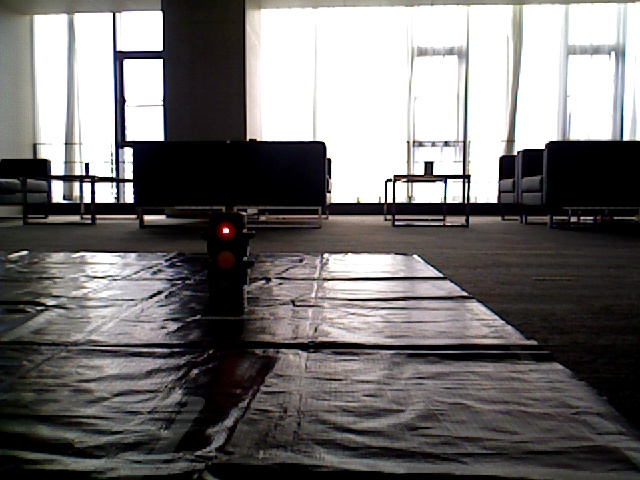red: (203, 219, 245, 316)
